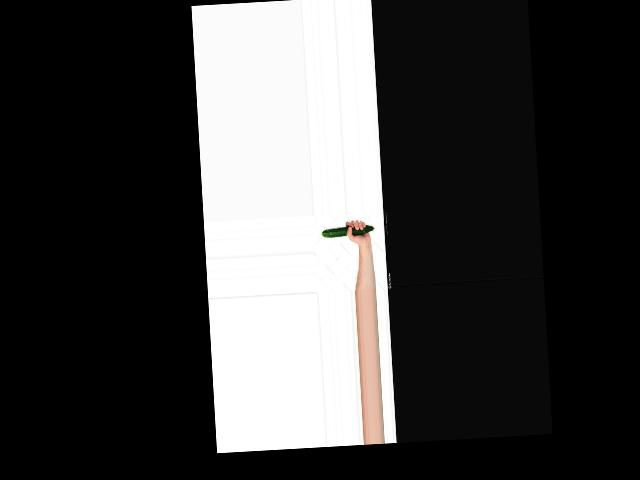cucumber: (322, 224, 375, 237)
